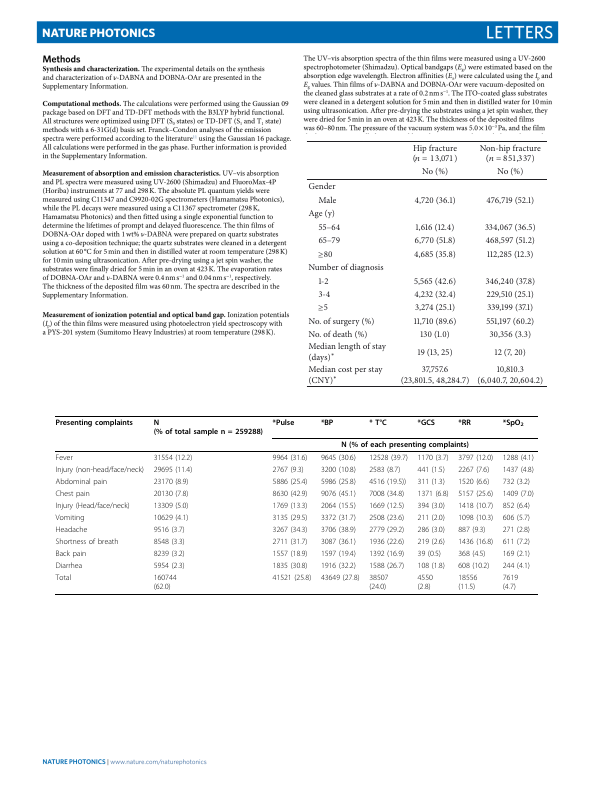borderless: (54, 414, 538, 594), (305, 139, 547, 386)
cell: (153, 418, 264, 436), (307, 341, 387, 363), (307, 364, 383, 386), (400, 364, 470, 386), (476, 364, 544, 386), (479, 143, 542, 166), (340, 440, 470, 450), (412, 143, 458, 166), (55, 465, 145, 475), (307, 262, 385, 273), (55, 501, 131, 511), (55, 418, 134, 427), (307, 316, 375, 326), (307, 329, 368, 340), (55, 537, 119, 547), (484, 222, 537, 233), (484, 276, 536, 287), (485, 195, 535, 206), (486, 289, 535, 300), (55, 477, 108, 487), (485, 236, 536, 246), (485, 316, 535, 326), (413, 195, 457, 206), (413, 276, 457, 287), (413, 289, 457, 300), (488, 329, 532, 340), (486, 249, 534, 259), (486, 303, 534, 313), (415, 222, 455, 233), (413, 249, 457, 259), (413, 316, 457, 326), (153, 573, 177, 591), (414, 236, 456, 246), (414, 303, 456, 313), (368, 453, 409, 463), (153, 453, 193, 463), (153, 465, 193, 475), (368, 477, 407, 487), (416, 347, 454, 357), (368, 573, 389, 591), (457, 573, 478, 591), (320, 453, 357, 463), (457, 453, 494, 463), (320, 465, 357, 475), (320, 477, 357, 487), (320, 489, 357, 499), (368, 489, 405, 499), (457, 489, 494, 499), (320, 501, 357, 511), (368, 501, 405, 511), (457, 501, 494, 511), (320, 513, 357, 523), (368, 513, 405, 523), (457, 513, 494, 523), (320, 525, 357, 535), (368, 525, 405, 535), (320, 537, 357, 547), (368, 537, 405, 547), (457, 537, 494, 547), (272, 453, 308, 463), (153, 477, 189, 487), (272, 477, 308, 487), (55, 489, 91, 499), (153, 489, 189, 499), (272, 489, 308, 499), (153, 501, 189, 511), (272, 501, 308, 511), (153, 513, 189, 523), (272, 513, 308, 523), (272, 525, 308, 535), (272, 537, 308, 547), (272, 573, 312, 582), (320, 573, 360, 582), (419, 329, 451, 340), (320, 549, 357, 558), (368, 549, 405, 558), (320, 561, 357, 570), (368, 561, 405, 570), (416, 453, 449, 463), (502, 453, 535, 463), (272, 465, 305, 475), (368, 465, 401, 475), (457, 465, 490, 475), (502, 465, 535, 475), (457, 477, 490, 487), (416, 489, 449, 499), (502, 489, 535, 499), (55, 525, 88, 535), (153, 525, 186, 535), (153, 537, 186, 547), (307, 181, 337, 192), (494, 347, 527, 357), (272, 549, 308, 558), (272, 561, 308, 570), (416, 573, 434, 591), (307, 208, 336, 219), (502, 573, 519, 591), (416, 465, 446, 475), (416, 477, 446, 487), (416, 501, 446, 511), (55, 513, 85, 523), (416, 513, 446, 523), (416, 525, 446, 535), (416, 537, 446, 547), (153, 549, 186, 558), (153, 561, 186, 570), (457, 561, 490, 570), (502, 477, 531, 487), (502, 501, 531, 511), (502, 513, 531, 523), (457, 525, 486, 535), (502, 525, 531, 535), (502, 537, 531, 547), (55, 549, 87, 558), (421, 167, 449, 177), (496, 167, 524, 177), (416, 561, 446, 570), (317, 222, 341, 233), (457, 549, 486, 558), (502, 549, 531, 558), (502, 561, 531, 570), (55, 561, 83, 570), (317, 236, 341, 246), (317, 246, 333, 261), (416, 549, 442, 558), (502, 418, 525, 428), (317, 195, 337, 206), (272, 418, 295, 427), (317, 299, 329, 315), (55, 453, 74, 463), (368, 418, 388, 427), (416, 418, 436, 427), (317, 289, 331, 300), (55, 573, 72, 582), (457, 418, 472, 427), (317, 276, 329, 287), (320, 418, 334, 427)
